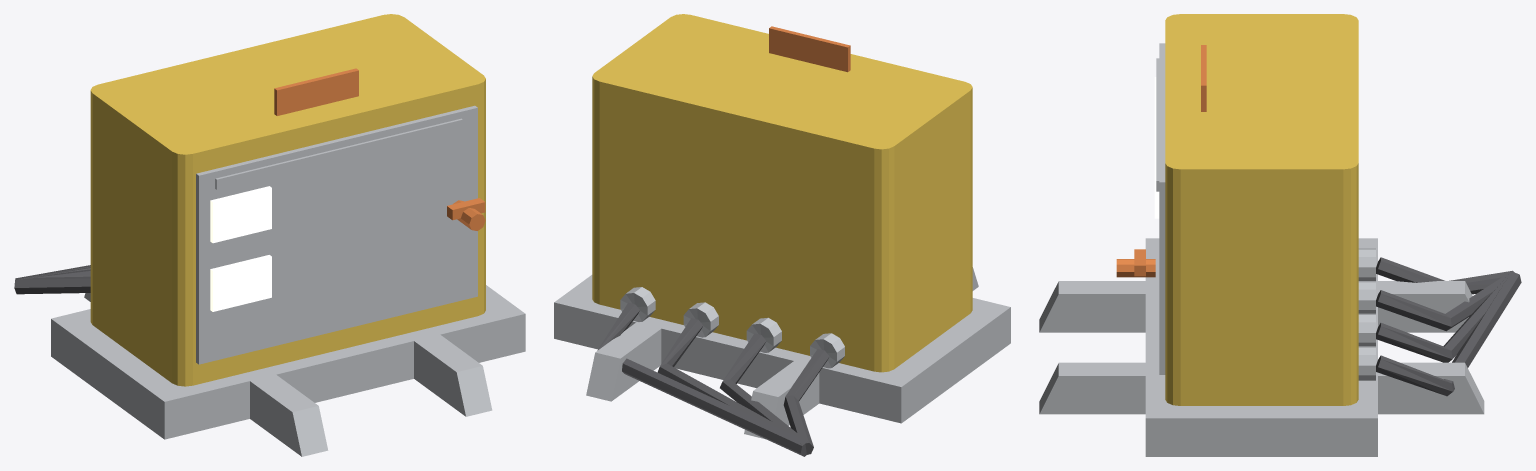
The model's file is underground-mine-and-shaft-works-power-distribution-bo-766a67c0.glb.
The picture shows the model from 3 angles, left to right: view 1: azimuth 30°, elevation 25°; view 2: azimuth 150°, elevation 25°; view 3: azimuth 270°, elevation 25°; orthographic projection. The views are drawn at different scales.
Visible parts, largest first — view 1: power-distribution-box; view 2: power-distribution-box; view 3: power-distribution-box.
Part boxes in pixels (x1,y1,x2,y2): power-distribution-box: (14, 14, 525, 456); power-distribution-box: (554, 14, 1010, 456); power-distribution-box: (1039, 14, 1521, 456).
Size of the model in its own units: 2.2 by 1.72 by 2.49.
